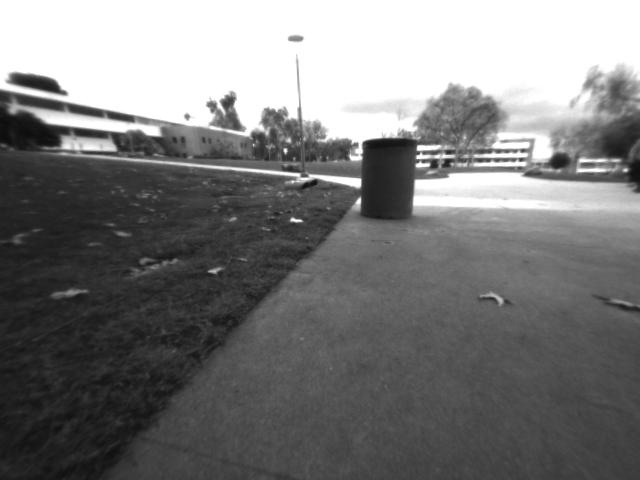trashcan: (357, 129, 420, 226)
